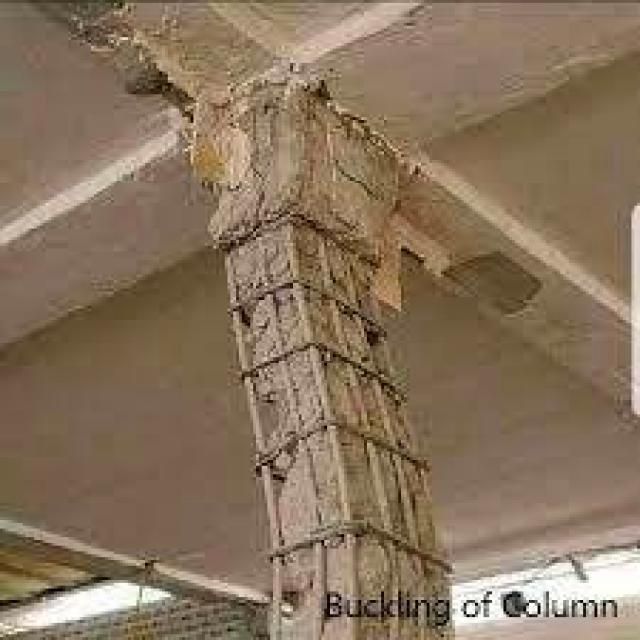Buckling_Beam: (173, 60, 482, 640)
